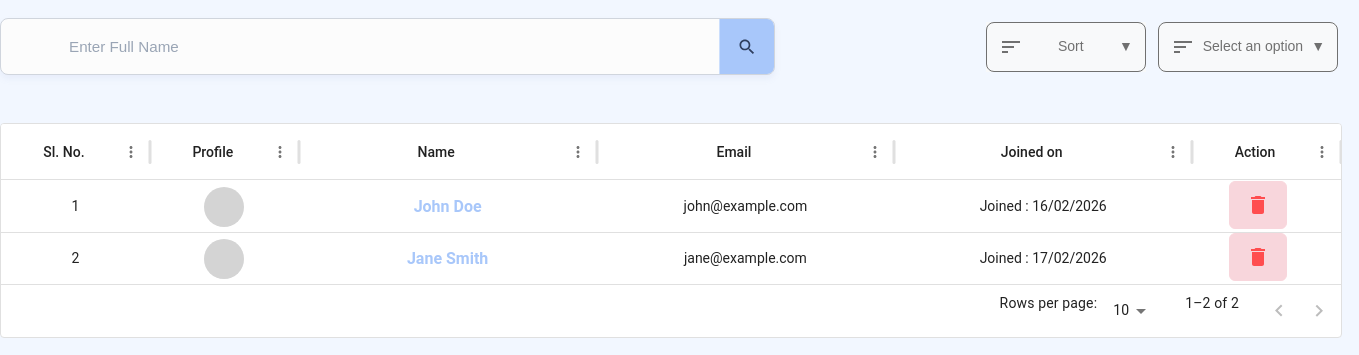
Scenario: OrganizationPeople › handles tab switching between members, admins, and users
This screenshot has width=1359, height=355.
Check: the link "John Doe" is shown, box left=414, top=197, right=482, bottom=216
// Switch to admin tab
Click the button with test id "sort-toggle": click(1066, 46) left=986, top=22, right=1146, bottom=72
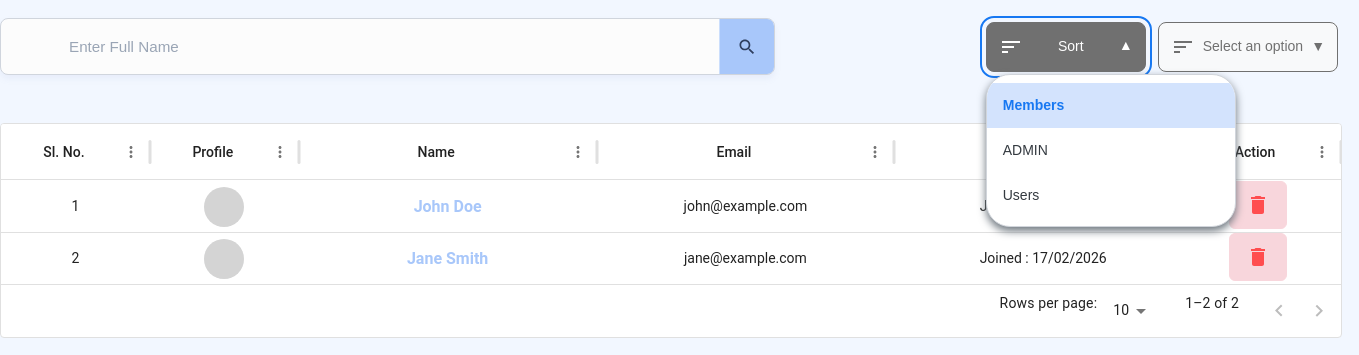
Click the option "ADMIN": click(1025, 150) left=1003, top=142, right=1048, bottom=158
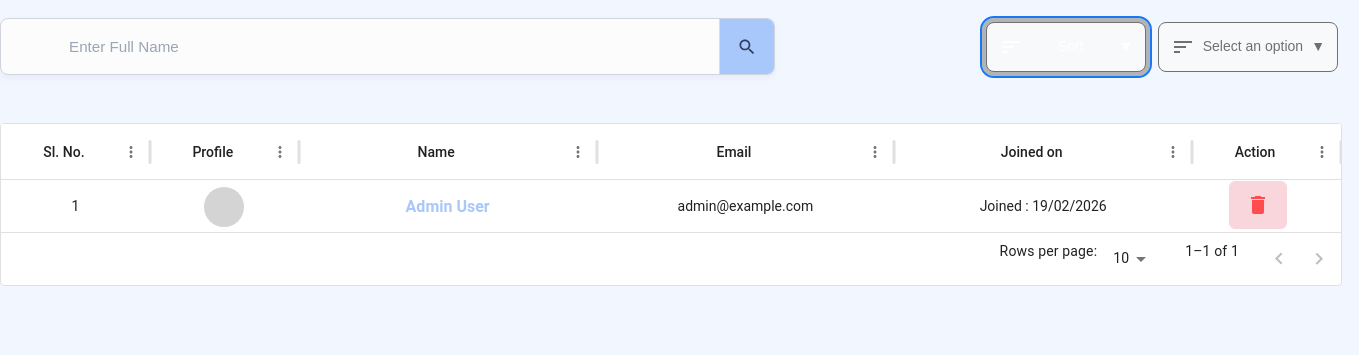
Check: the link "Admin User" is shown, box left=406, top=197, right=490, bottom=216
// Switch to users tab
Click the button with test id "sort-toggle": click(1066, 46) left=986, top=22, right=1146, bottom=72
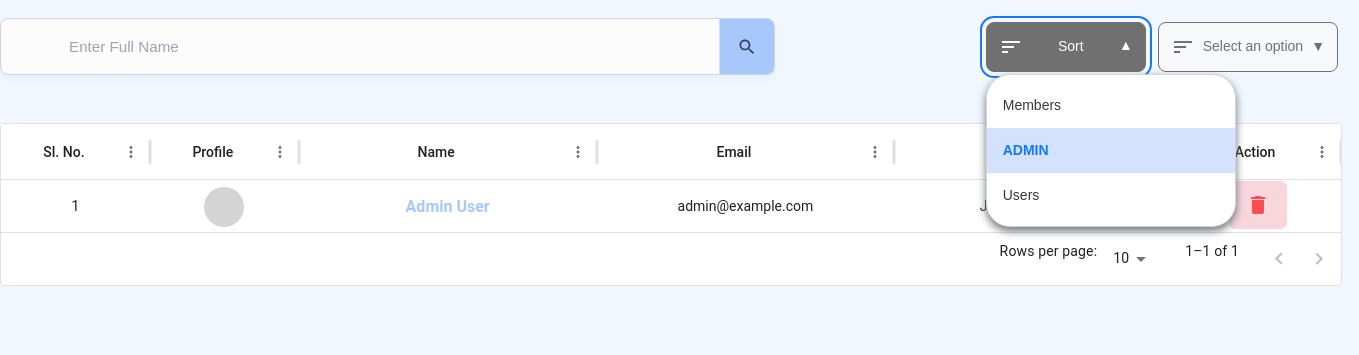
Click the option "Users": click(1021, 194) left=1003, top=186, right=1039, bottom=202
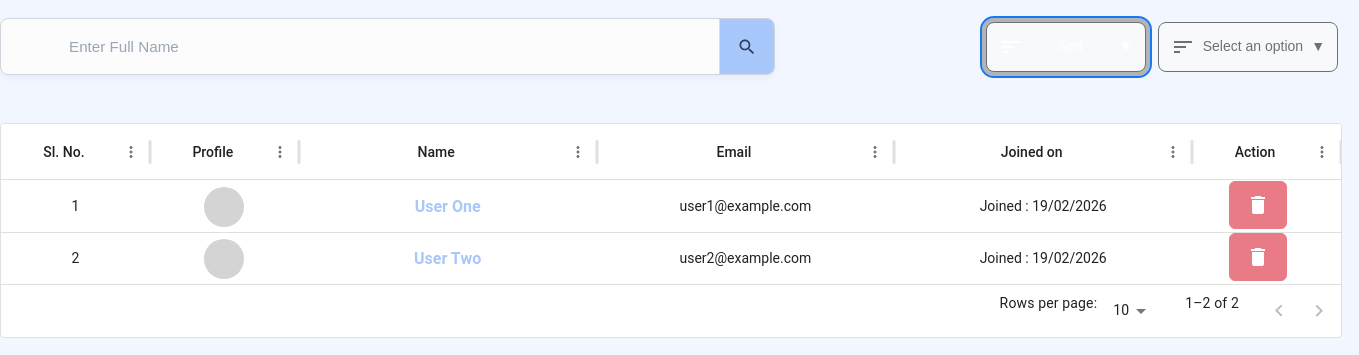
Check: the link "User One" is shown, box left=415, top=197, right=481, bottom=216
Check: the link "User Two" is shown, box left=414, top=249, right=481, bottom=268
// Switch to users tab
Click the button with test id "sort-toggle": click(1066, 46) left=986, top=22, right=1146, bottom=72
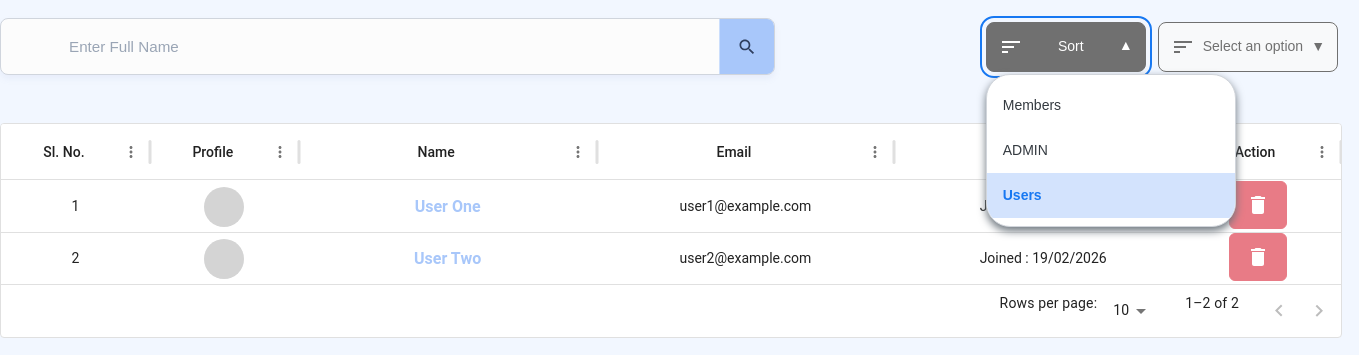
Click the option "Members": click(1032, 104) left=1003, top=96, right=1061, bottom=112
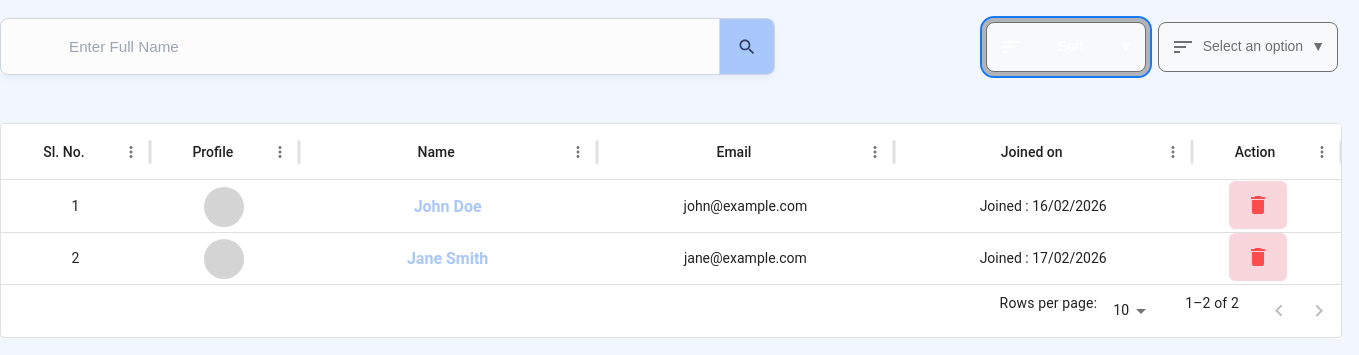
Check: the link "John Doe" is shown, box left=414, top=197, right=482, bottom=216
